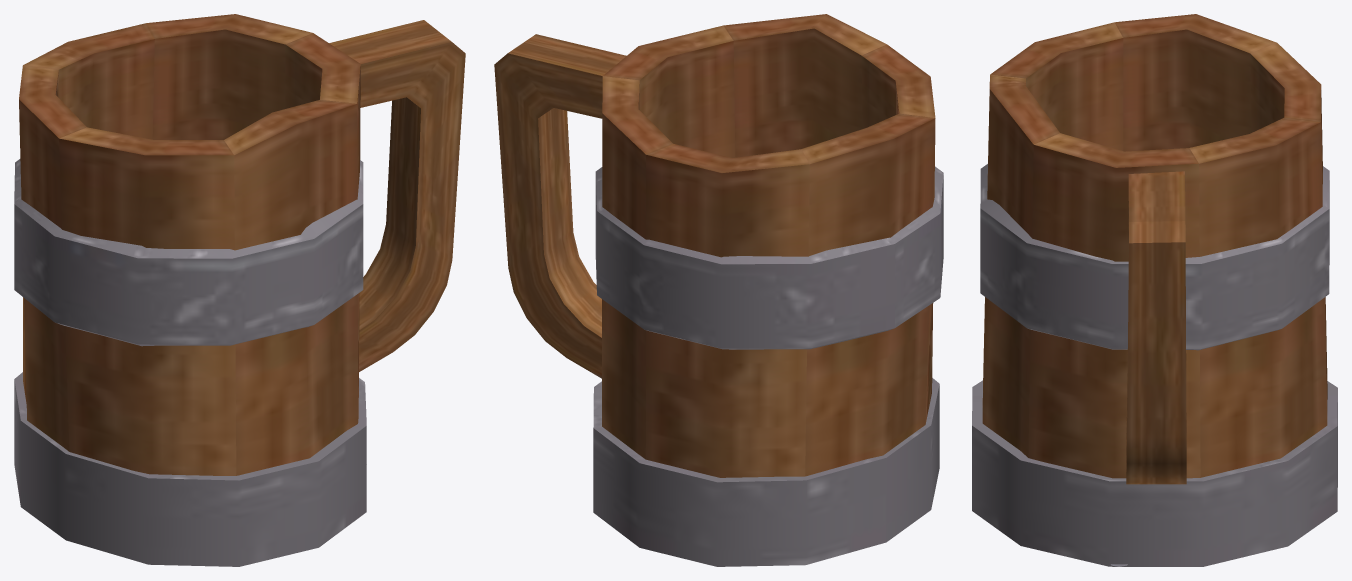
File: quaternius-fantasy-props-mug.glb
3 views of the same model, side by side, from view 1: azimuth 30°, elevation 25°; view 2: azimuth 150°, elevation 25°; view 3: azimuth 270°, elevation 25° (orthographic). The views are drawn at different scales.
Parts seen in each view (by area): view 1: Mug; view 2: Mug; view 3: Mug.
Boxes of the visible parts, x1,y1,x2,y2 form: Mug: (14, 14, 465, 566); Mug: (494, 14, 943, 566); Mug: (972, 14, 1337, 566).
Size of the model in its own units: 0.2 by 0.1915 by 0.1528.
Materials: 2 (2 with a texture image).
